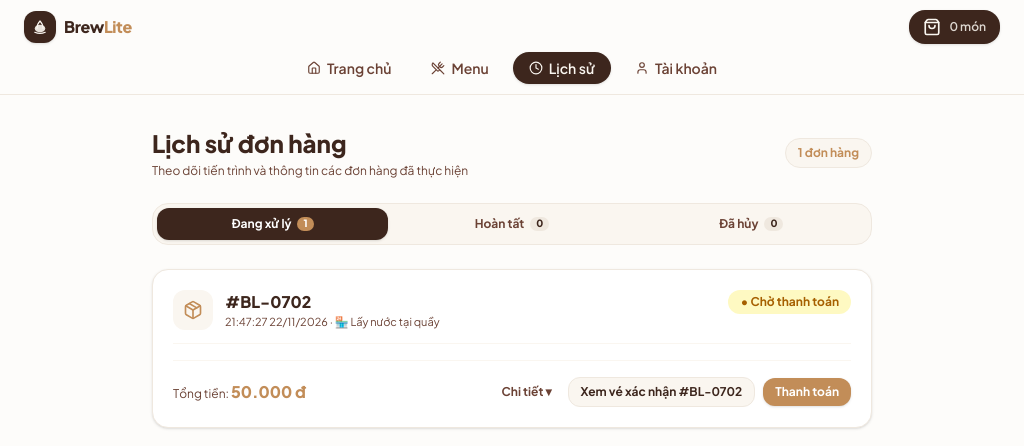
PR #41 Review Fixes Verification Suite (FIX-01 through FIX-05) › PATCH-A & PATCH-B: Historical Order Data Integrity & Cart Isolation › 2. Missing, NaN or invalid backend amount fails closed and displays error
Click the button "Thanh toán".
click(807, 392)  # box x1=763 y1=378 x2=851 y2=406
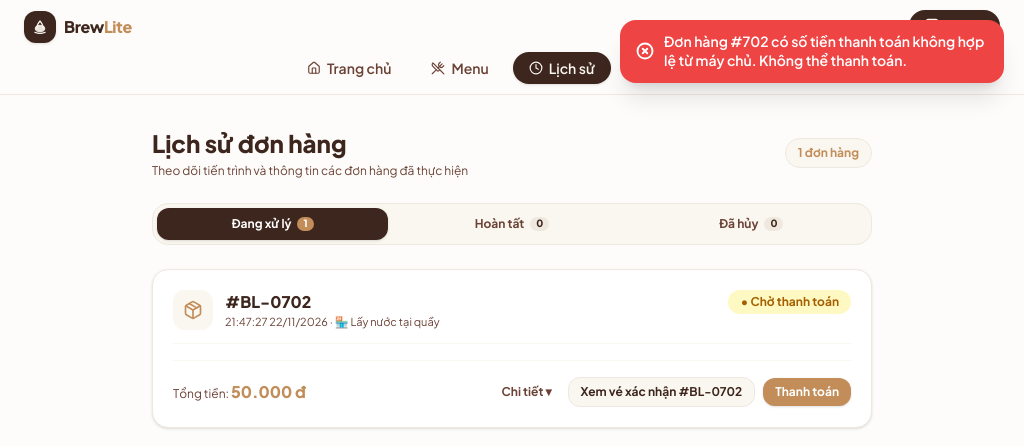
Expected: the text "có số tiền thanh toán không hợp lệ từ máy chủ" is shown, x1=664 y1=32 x2=984 y2=69
